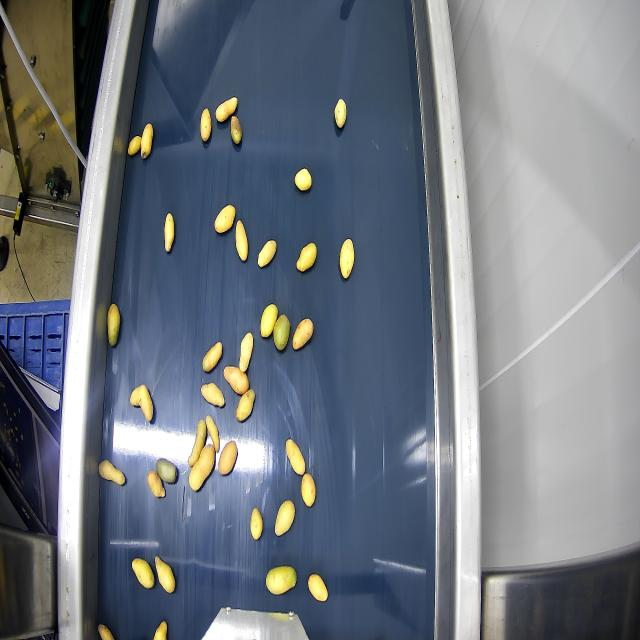Baby Potato: (189, 446, 215, 491), (130, 384, 153, 421), (188, 420, 206, 466), (266, 567, 296, 594), (155, 556, 175, 593), (286, 439, 305, 475), (224, 367, 248, 395), (275, 500, 294, 535), (132, 559, 154, 589), (292, 319, 313, 350), (99, 460, 125, 485), (218, 441, 237, 475), (202, 342, 222, 372), (236, 389, 254, 422), (214, 205, 235, 233), (296, 242, 316, 271), (273, 315, 289, 351), (215, 97, 237, 122), (340, 240, 354, 279), (107, 304, 120, 346), (239, 333, 253, 371), (201, 384, 224, 407), (261, 304, 277, 337), (156, 458, 177, 483), (308, 575, 327, 601), (235, 220, 247, 261), (258, 240, 276, 267), (301, 473, 315, 507), (147, 471, 165, 497), (206, 416, 219, 452), (141, 124, 153, 159), (164, 213, 174, 252), (250, 508, 262, 540), (295, 168, 311, 191), (201, 108, 211, 142), (335, 98, 346, 128), (128, 135, 142, 156), (231, 116, 241, 144), (154, 621, 167, 639), (100, 625, 112, 640)
